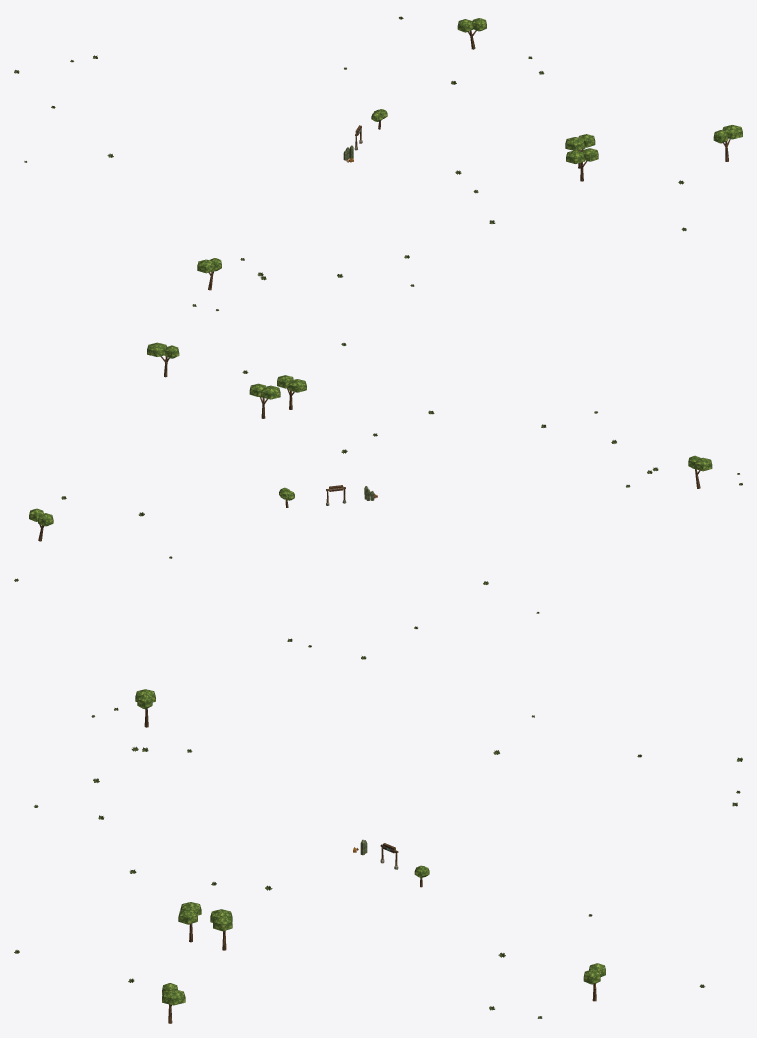
Rendered from FieldCell_3_0.fbx.
3 renders of one model, top to bottom at view 1: azimuth 30°, elevation 25°; view 2: azimuth 150°, elevation 25°; view 3: azimuth 270°, elevation 25°, orthographic. The views are drawn at different scales.
Parts seen in each view (by area): view 1: FieldCell_3_0; view 2: FieldCell_3_0; view 3: FieldCell_3_0.
Boxes of the visible parts, left/top/right/bottom form: FieldCell_3_0: left=197, top=18, right=742, bottom=290; FieldCell_3_0: left=29, top=342, right=712, bottom=541; FieldCell_3_0: left=135, top=689, right=605, bottom=1023.
Size of the model in its own units: 13986 by 1164 by 13732.
